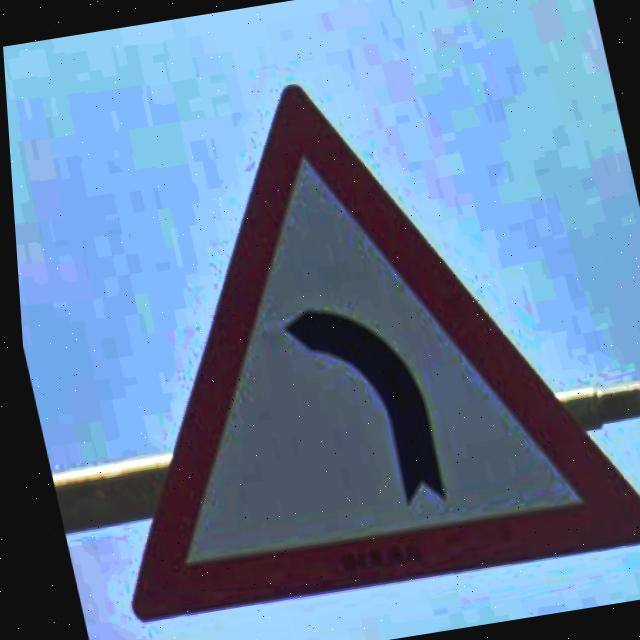leftbend: (122, 85, 640, 623)
